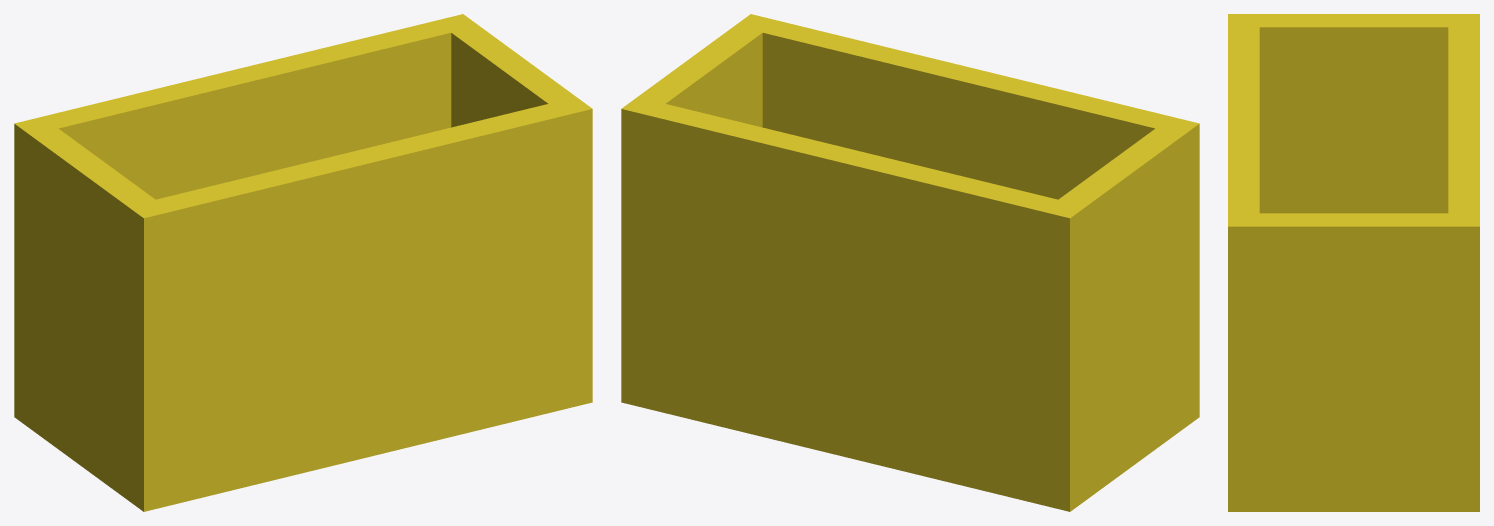
The model's file is Waist.fbx.
3 renders of one model, left to right at view 1: azimuth 30°, elevation 25°; view 2: azimuth 150°, elevation 25°; view 3: azimuth 270°, elevation 25°, orthographic. The views are drawn at different scales.
Parts seen in each view (by area): view 1: Waist.Gold; view 2: Waist.Gold; view 3: Waist.Gold.
Part boxes in pixels (box(x1,y1,x2,y2)): Waist.Gold: box(14, 14, 592, 511); Waist.Gold: box(621, 14, 1199, 511); Waist.Gold: box(1228, 14, 1479, 511).
Bounding box in the file's own units: 51.76 × 32.35 × 25.88.
